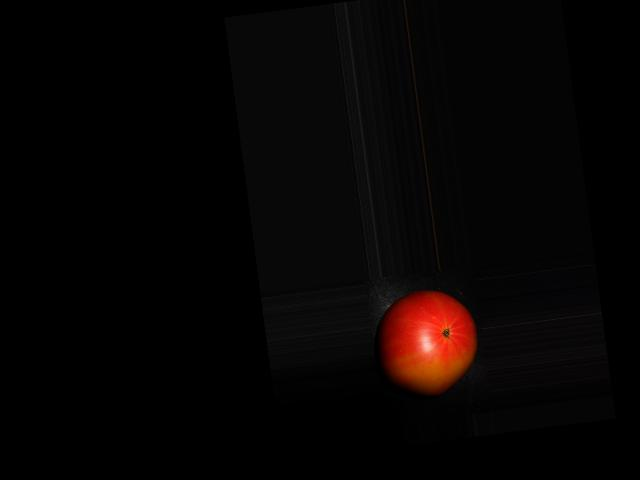tomato: (370, 284, 483, 401)
